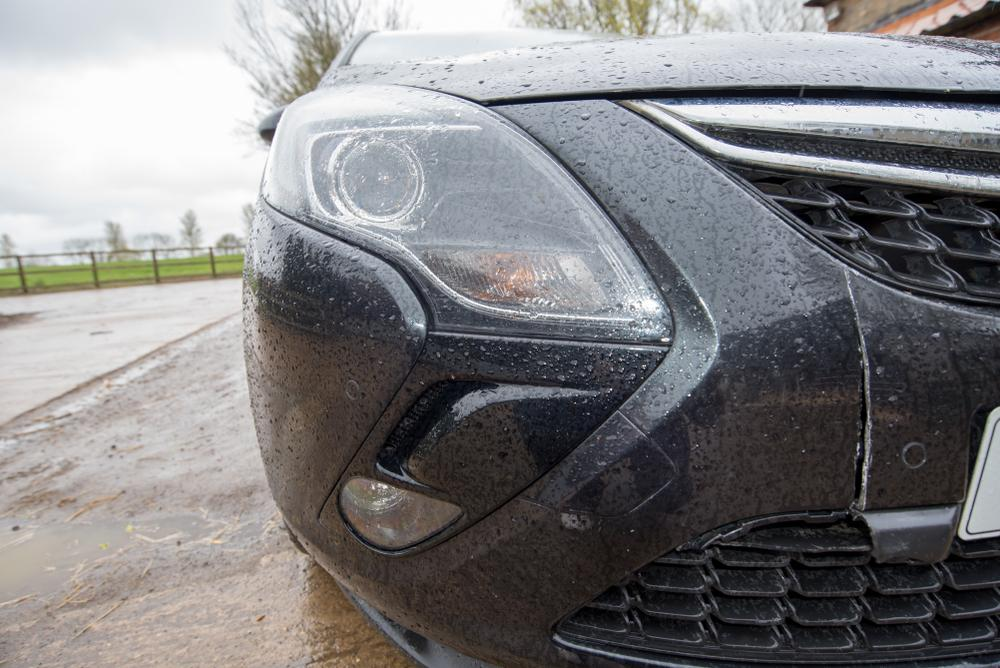crack: (841, 267, 871, 513)
